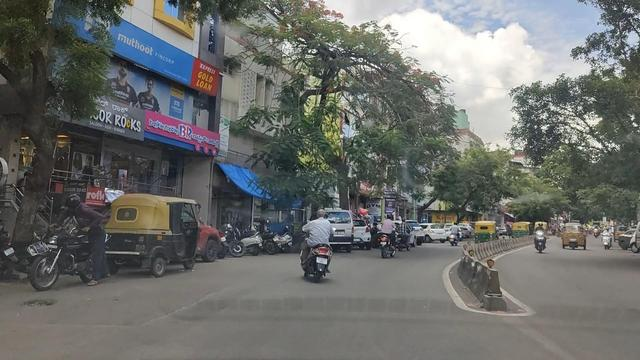LMV: (15, 196, 113, 300), (122, 194, 198, 275), (293, 206, 334, 291)
RoadDamages: (82, 278, 247, 329), (21, 293, 62, 317)
